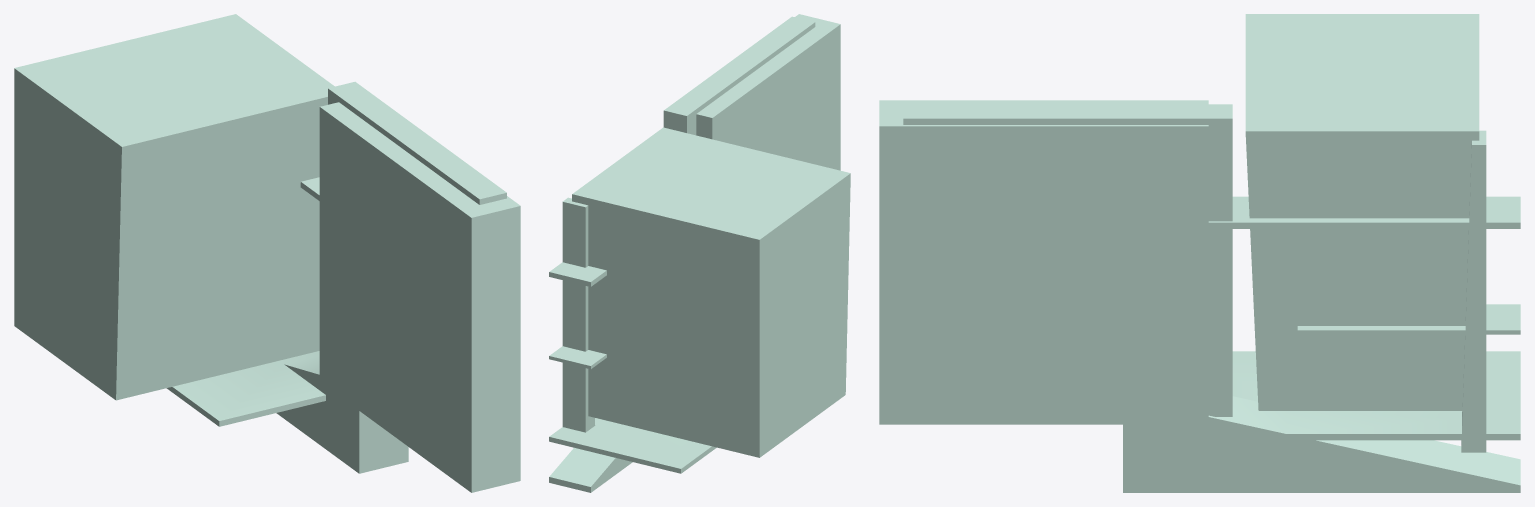
3 renders of one model, left to right at view 1: azimuth 30°, elevation 25°; view 2: azimuth 150°, elevation 25°; view 3: azimuth 270°, elevation 25°, orthographic. The views are drawn at different scales.
Visible parts, largest first — view 1: Renderer Node; view 2: Renderer Node; view 3: Renderer Node.
Part boxes in pixels (left/top/right/bottom): Renderer Node: left=14, top=14, right=520, bottom=492; Renderer Node: left=549, top=14, right=850, bottom=492; Renderer Node: left=879, top=14, right=1520, bottom=492.
Size of the model in its own units: 0.6563 by 0.9375 by 1.46.
